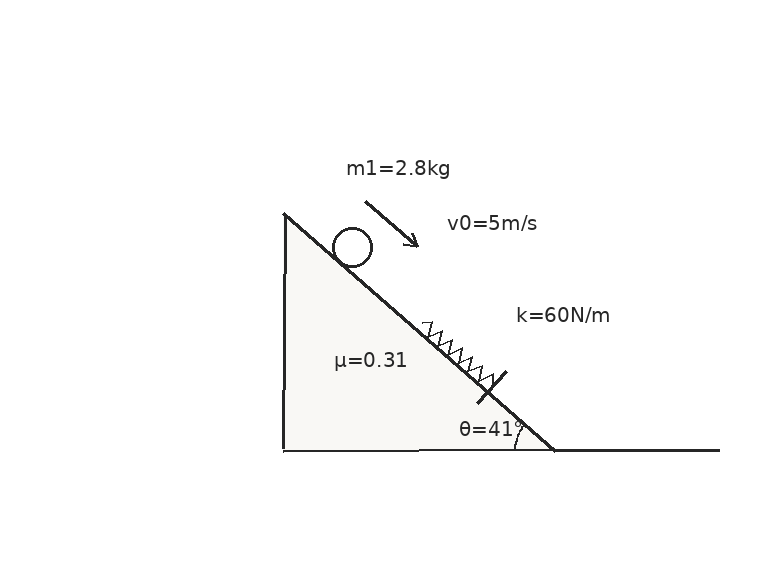ball: (330, 225, 374, 269)
ramp: (281, 212, 557, 452)
spring: (420, 320, 495, 386)
